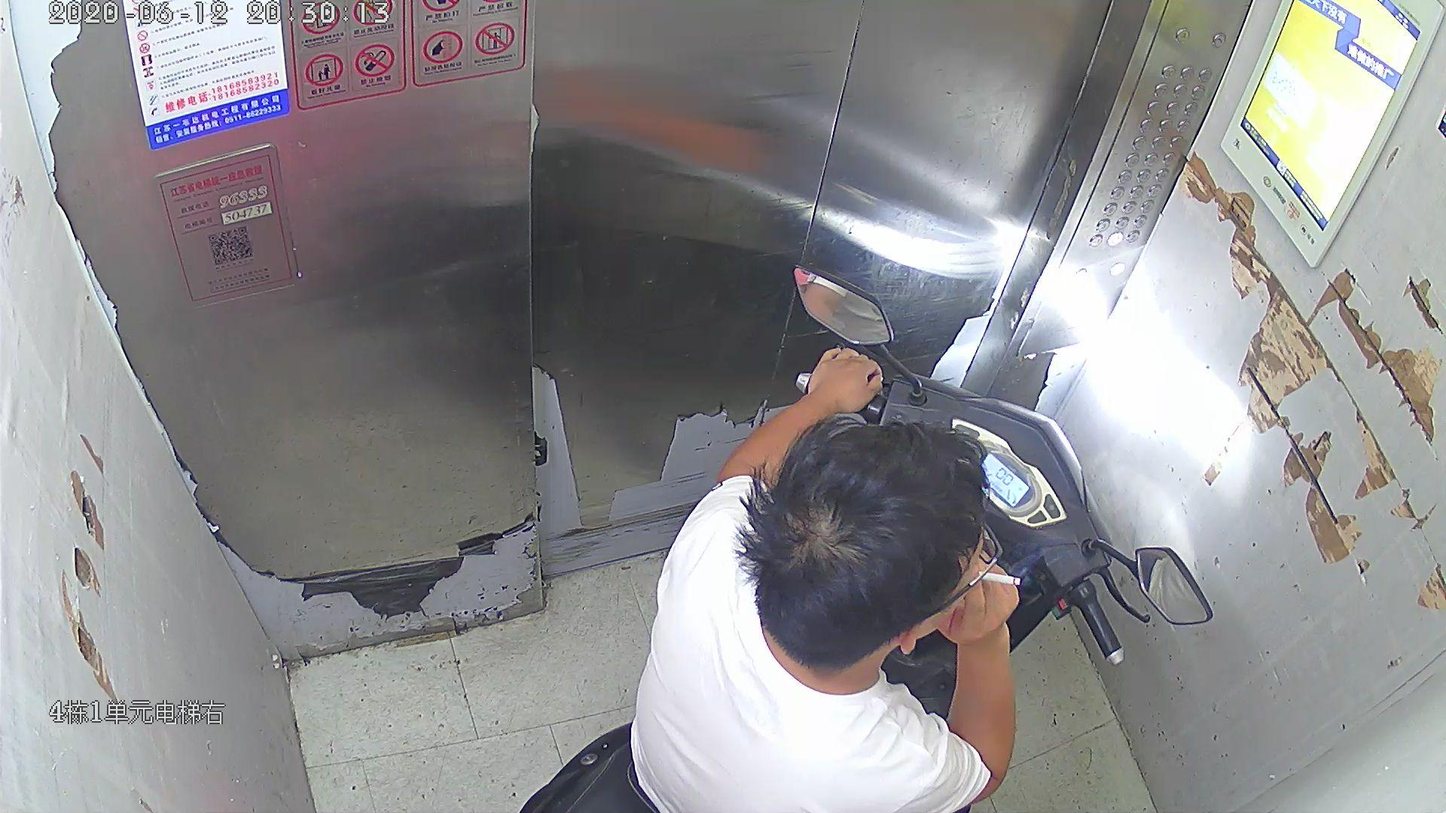Electric-bicycle: (542, 265, 1206, 806)
